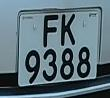3: (41, 50, 60, 84)
8: (58, 48, 76, 82), (75, 46, 92, 80)
9: (22, 50, 43, 85)
F: (39, 12, 60, 50)
K: (59, 10, 79, 50)
